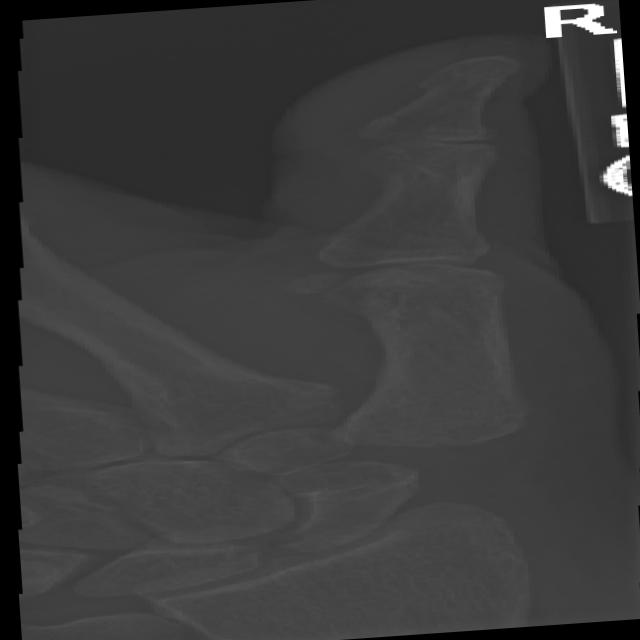fingers positive: (243, 216, 543, 354), (307, 104, 533, 227)
